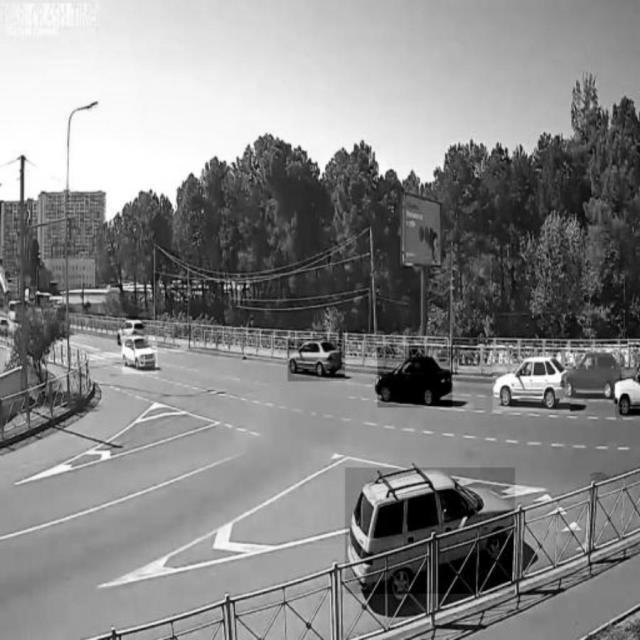vehicle: (345, 468, 515, 594), (378, 347, 454, 408), (493, 357, 570, 412), (566, 345, 621, 397), (288, 340, 345, 382), (123, 335, 158, 373), (615, 367, 640, 418), (115, 317, 143, 344)
